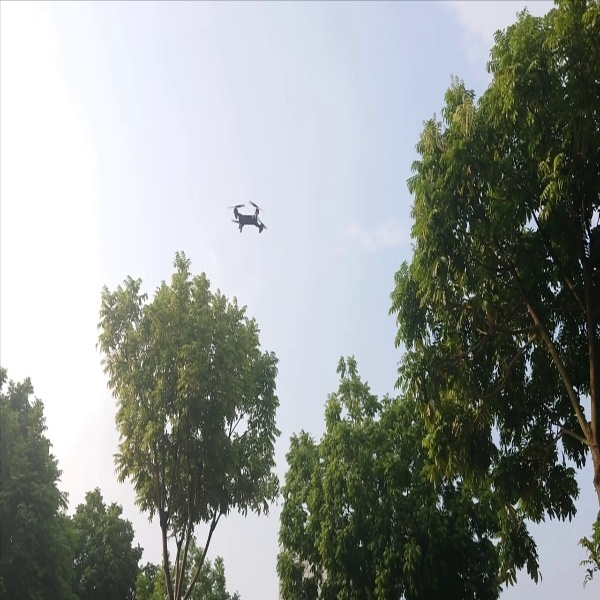drone: (226, 197, 272, 242)
